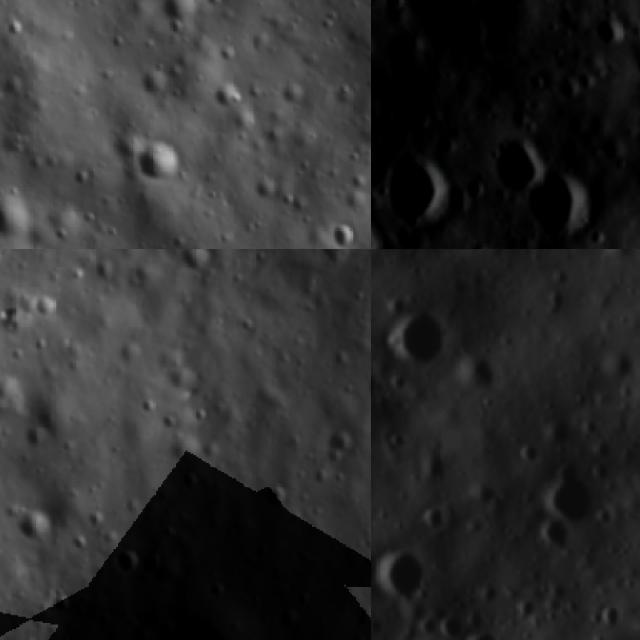crater: (371, 276, 479, 393), (500, 145, 617, 249), (371, 132, 472, 246), (466, 112, 563, 211), (526, 448, 615, 538), (371, 524, 448, 618), (390, 249, 513, 281), (131, 135, 193, 196), (389, 0, 516, 29), (8, 501, 60, 552), (451, 608, 528, 640), (0, 189, 38, 247), (104, 542, 150, 587), (592, 8, 634, 55), (549, 60, 589, 106), (152, 0, 206, 28), (138, 548, 175, 588), (177, 249, 221, 280), (322, 424, 353, 468), (209, 77, 247, 112), (322, 216, 362, 249), (255, 481, 290, 513), (274, 605, 310, 636), (174, 468, 203, 499), (371, 0, 409, 23), (30, 293, 60, 322), (202, 577, 230, 606), (22, 424, 46, 454), (347, 287, 369, 313), (137, 391, 158, 418), (87, 262, 109, 284), (159, 414, 177, 438), (250, 249, 270, 269), (238, 316, 255, 338), (194, 404, 207, 428), (364, 368, 371, 405), (18, 635, 38, 640)
